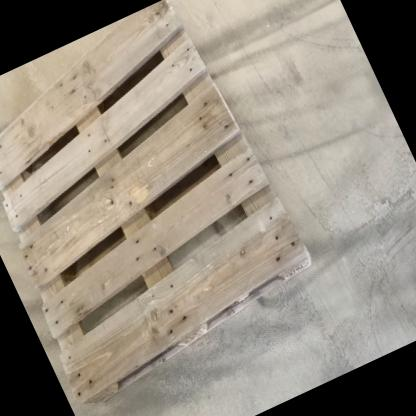BoxFace: (0, 0, 320, 416)
